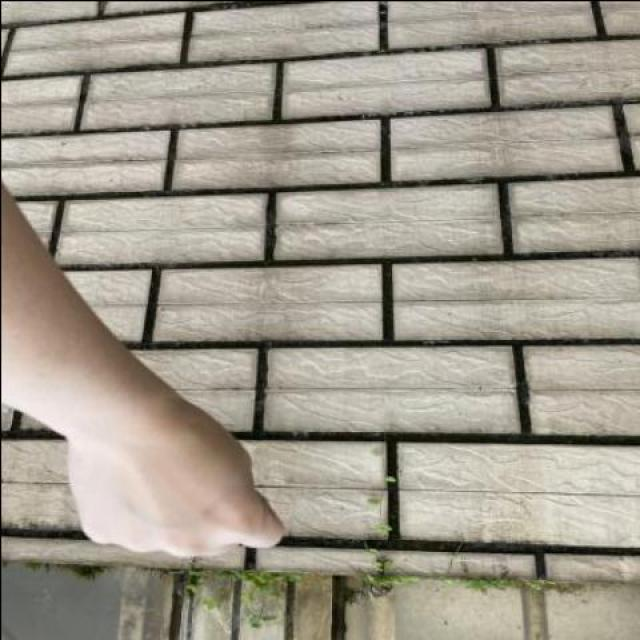Closed Hand: (57, 379, 299, 570)
